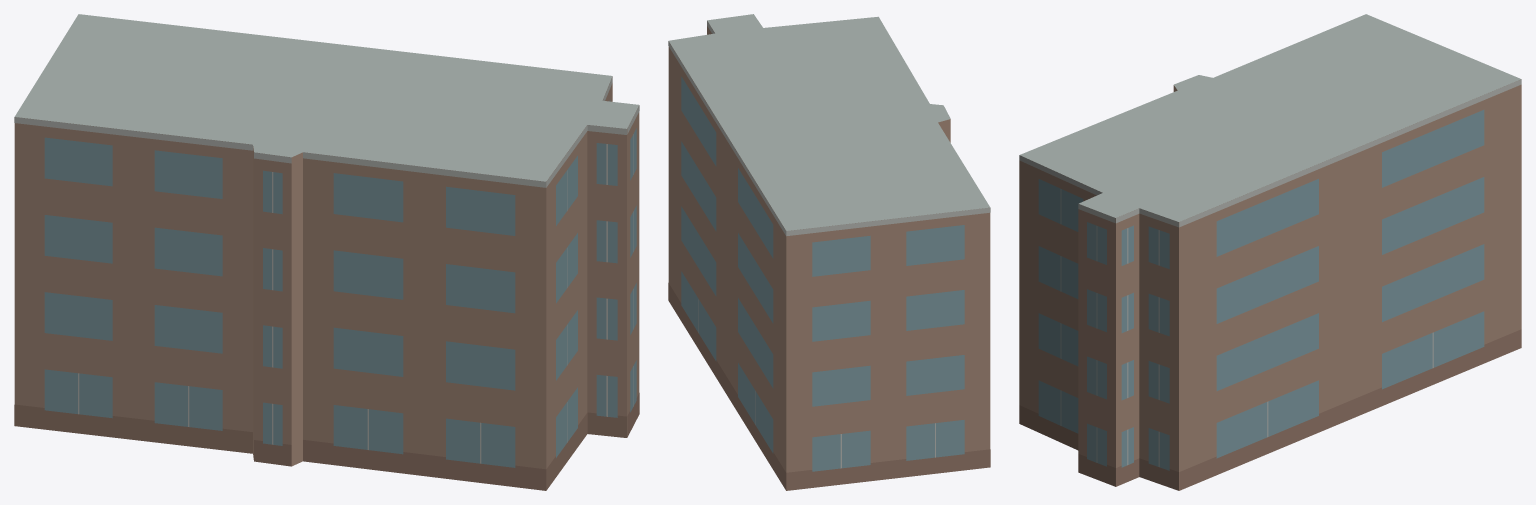
Rendered from survey-upis-33006073.glb.
The picture shows the model from 3 angles, left to right: view 1: azimuth 30°, elevation 25°; view 2: azimuth 150°, elevation 25°; view 3: azimuth 270°, elevation 25°; orthographic projection. The views are drawn at different scales.
Parts seen in each view (by area): view 1: survey-upis-33006073.tmp; view 2: survey-upis-33006073.tmp; view 3: survey-upis-33006073.tmp.
Part boxes in pixels (<box>): survey-upis-33006073.tmp: <box>14,14,639,490</box>; survey-upis-33006073.tmp: <box>668,14,990,490</box>; survey-upis-33006073.tmp: <box>1019,14,1521,490</box>.
Size of the model in its own units: 20.37 by 12.26 by 20.77.
